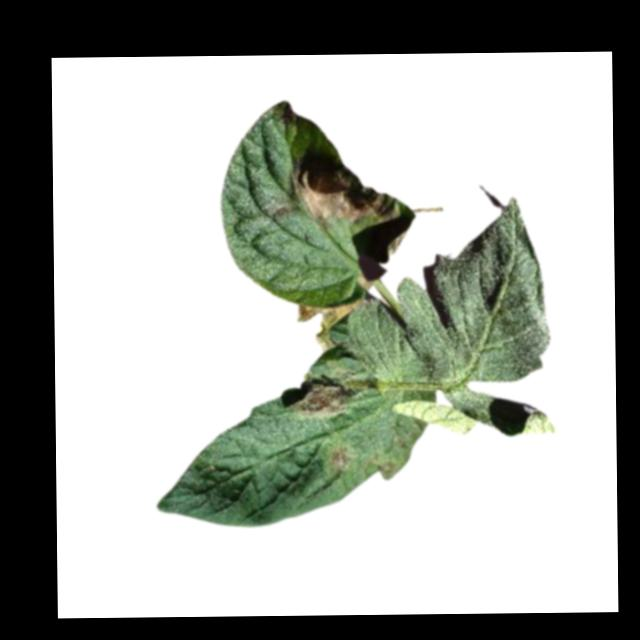Late_blight: (289, 159, 396, 228), (295, 297, 370, 351), (289, 376, 351, 419), (325, 444, 352, 470)
healthy: (347, 198, 552, 389)
